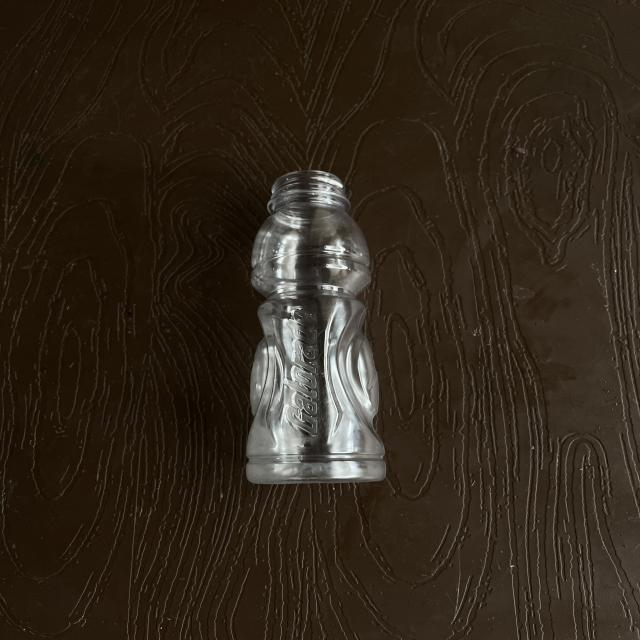PET_ClearBottle: (228, 167, 408, 632)
